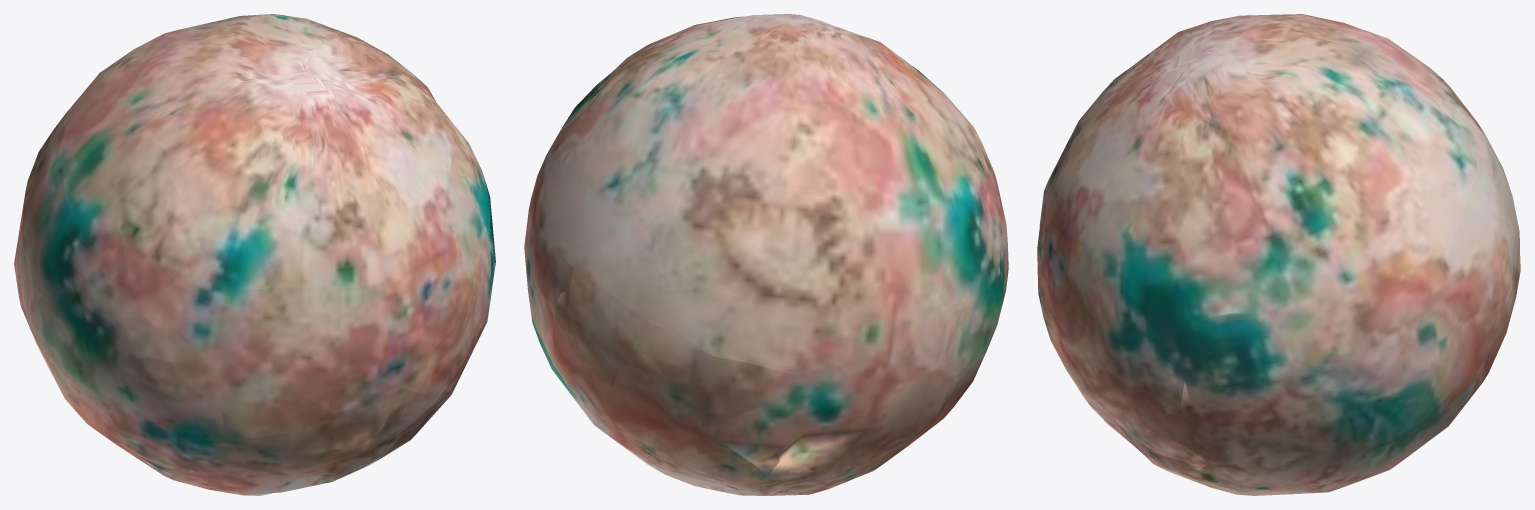
The model's file is planet_15-lod.glb.
The picture shows the model from 3 angles, left to right: view 1: azimuth 30°, elevation 25°; view 2: azimuth 150°, elevation 25°; view 3: azimuth 270°, elevation 25°; orthographic projection.
Parts seen in each view (by area): view 1: Mesh_0.001; view 2: Mesh_0.001; view 3: Mesh_0.001.
Part boxes in pixels (x1,y1,x2,y2): Mesh_0.001: (14,14,495,495); Mesh_0.001: (524,14,1008,495); Mesh_0.001: (1037,14,1520,495).
Bounding box in the file's own units: 1.9 × 1.9 × 1.9.
1 material, 1 textured.
